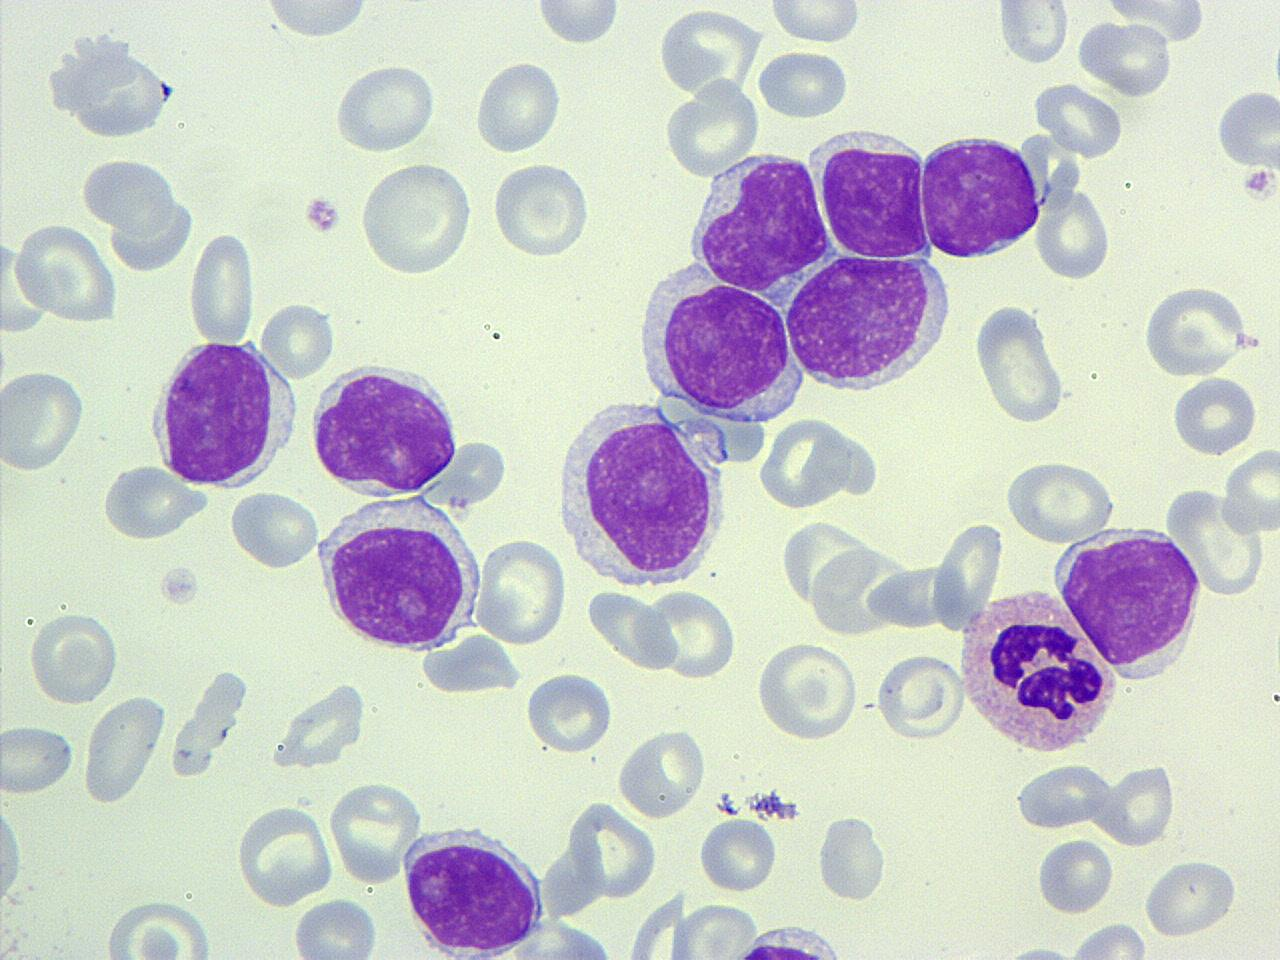Platelets: (1213, 85, 1279, 175), (532, 2, 624, 47), (302, 191, 344, 236), (1002, 940, 1072, 960), (748, 788, 788, 820), (1240, 166, 1276, 200), (1268, 38, 1280, 90)
RBC: (812, 127, 936, 262), (358, 158, 476, 278), (974, 301, 1071, 425), (1165, 483, 1267, 598), (1138, 282, 1258, 377), (753, 637, 860, 743), (471, 534, 569, 646), (14, 220, 119, 324), (235, 800, 336, 908), (490, 158, 595, 260), (325, 779, 425, 884), (660, 75, 760, 178), (332, 61, 440, 155), (1004, 456, 1120, 544), (655, 5, 765, 97), (81, 692, 168, 806), (268, 678, 370, 772), (566, 798, 660, 899), (808, 542, 906, 638), (874, 648, 970, 746), (26, 608, 121, 706), (471, 57, 565, 155), (0, 367, 87, 474), (78, 153, 188, 236), (584, 580, 678, 676), (642, 586, 738, 680), (758, 414, 849, 513), (929, 516, 1005, 632), (616, 727, 709, 821), (1140, 856, 1242, 940), (100, 460, 203, 542), (524, 668, 616, 754), (227, 487, 321, 572), (188, 229, 256, 346), (1078, 18, 1176, 98), (101, 894, 219, 960), (1169, 373, 1259, 458), (1034, 186, 1112, 282), (1030, 80, 1124, 158), (755, 45, 850, 122), (1014, 760, 1110, 832), (1099, 760, 1175, 848), (258, 296, 336, 382), (698, 813, 778, 894), (816, 811, 888, 902), (1035, 834, 1113, 914), (0, 720, 77, 798), (1214, 84, 1278, 176), (666, 899, 761, 958), (290, 896, 380, 958), (1222, 443, 1280, 536), (493, 918, 622, 958), (1096, 0, 1210, 44), (1, 236, 52, 334), (256, 0, 374, 42), (996, 1, 1071, 66), (767, 0, 863, 45), (534, 1, 621, 49), (1066, 920, 1152, 960), (1, 798, 26, 912)
WBC: (600, 0, 1234, 466), (550, 394, 731, 590), (634, 256, 813, 421), (312, 490, 486, 656), (956, 585, 1122, 759), (782, 249, 956, 397), (1051, 522, 1209, 684), (144, 333, 300, 491), (306, 357, 464, 499), (683, 145, 833, 293), (398, 821, 552, 959), (915, 130, 1048, 263), (815, 124, 938, 258), (44, 26, 182, 143), (82, 692, 172, 806), (1013, 758, 1111, 832), (1213, 83, 1279, 173), (710, 924, 868, 958), (498, 919, 624, 959)
